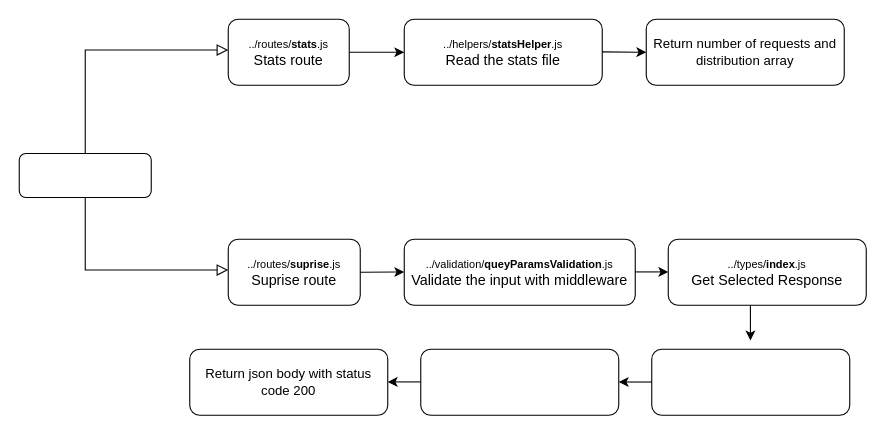
This 886x435 diagram has some shape labels left out. The shapes that lost their labels are listed below. From the top down, each one's centre as x and y in pixels, then its label:
pixel 84 174: / index .js
pixel 519 381: Invoke the function of the desired response type to get the string result
pixel 750 381: ../helpers/ statsHelper .js Update the stats file
